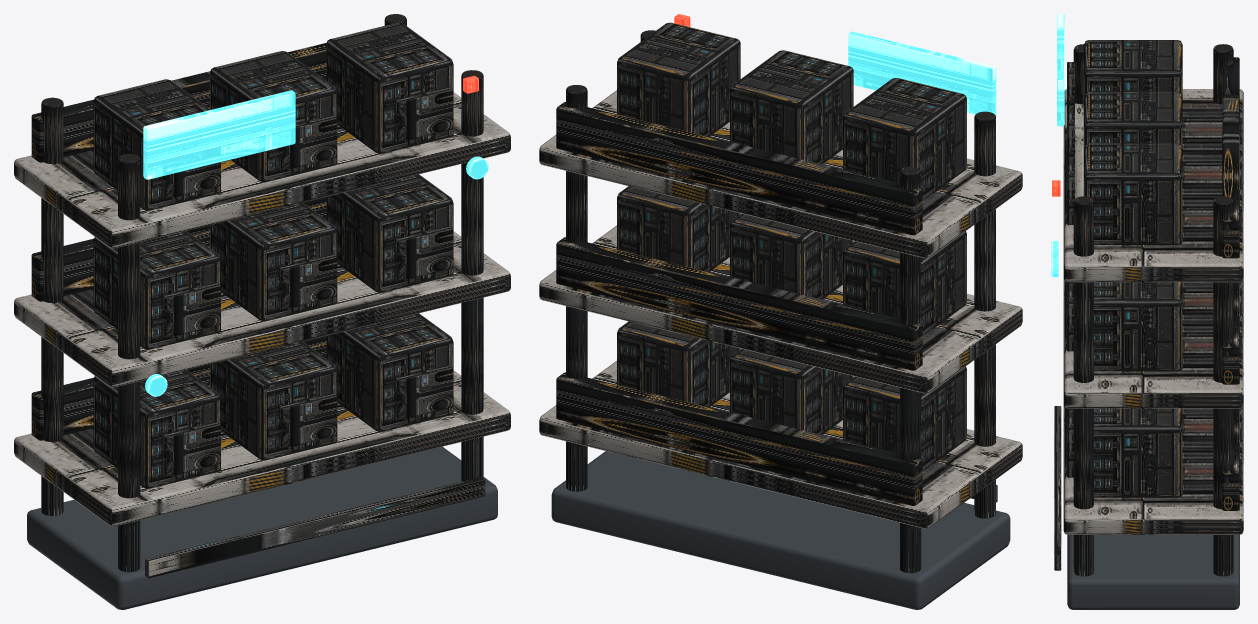
Rendered from room_l1_img2_battery_charging_rack.glb.
3 renders of one model, left to right at view 1: azimuth 30°, elevation 25°; view 2: azimuth 150°, elevation 25°; view 3: azimuth 270°, elevation 25°, orthographic. The views are drawn at different scales.
Parts seen in each view (by area): view 1: grounded_shadow_base, shelf_white_power_bus_0.3, shelf_white_power_bus_0.8, shelf_white_power_bus_1.3, battery_pack_1.3_0.4, battery_pack_0.3_0.4, battery_pack_0.8_0.4, battery_pack_0.3_0.0, battery_pack_0.8_0.0, top_charger_header_screen, upright_dark_steel_post, battery_pack_0.8_-0.4 (+18 smaller); view 2: grounded_shadow_base, rear_cable_tray_0.8, rear_cable_tray_0.3, rear_cable_tray_1.3, shelf_white_power_bus_1.3, shelf_white_power_bus_0.8, shelf_white_power_bus_0.3, battery_pack_1.3_-0.4, battery_pack_1.3_0.4, battery_pack_1.3_0.0, battery_pack_0.8_0.0, battery_pack_0.3_0.0 (+8 smaller); view 3: shelf_white_power_bus_1.3, grounded_shadow_base, shelf_white_power_bus_0.8, shelf_white_power_bus_0.3, battery_pack_1.3_0.4, battery_pack_0.3_0.4, battery_pack_0.8_0.4, upright_dark_steel_post.002, battery_pack_1.3_-0.4, battery_pack_1.3_0.0, upright_dark_steel_post.003, rear_cable_tray_1.3 (+11 smaller).
Part boxes in pixels (left/top/right/bottom): grounded_shadow_base: left=27, top=446, right=497, bottom=609; shelf_white_power_bus_0.3: left=14, top=370, right=510, bottom=526; shelf_white_power_bus_0.8: left=14, top=231, right=510, bottom=387; shelf_white_power_bus_1.3: left=14, top=92, right=510, bottom=248; battery_pack_1.3_0.4: left=326, top=22, right=453, bottom=153; battery_pack_0.3_0.4: left=326, top=313, right=453, bottom=431; battery_pack_0.8_0.4: left=326, top=174, right=453, bottom=292; battery_pack_0.3_0.0: left=210, top=341, right=337, bottom=459; battery_pack_0.8_0.0: left=210, top=202, right=337, bottom=320; top_charger_header_screen: left=143, top=90, right=295, bottom=179; upright_dark_steel_post: left=118, top=154, right=140, bottom=572; battery_pack_0.8_-0.4: left=93, top=231, right=220, bottom=349; grounded_shadow_base: left=551, top=451, right=1010, bottom=609; rear_cable_tray_0.8: left=556, top=237, right=922, bottom=370; rear_cable_tray_0.3: left=556, top=372, right=922, bottom=505; rear_cable_tray_1.3: left=556, top=102, right=922, bottom=235; shelf_white_power_bus_1.3: left=539, top=90, right=1022, bottom=258; shelf_white_power_bus_0.8: left=539, top=225, right=1022, bottom=393; shelf_white_power_bus_0.3: left=539, top=361, right=1022, bottom=528; battery_pack_1.3_-0.4: left=843, top=78, right=966, bottom=200; battery_pack_1.3_0.4: left=617, top=22, right=740, bottom=136; battery_pack_1.3_0.0: left=730, top=50, right=853, bottom=164; battery_pack_0.8_0.0: left=730, top=214, right=853, bottom=299; battery_pack_0.3_0.0: left=730, top=349, right=853, bottom=434; shelf_white_power_bus_1.3: left=1063, top=89, right=1243, bottom=282; grounded_shadow_base: left=1067, top=535, right=1239, bottom=609; shelf_white_power_bus_0.8: left=1063, top=279, right=1243, bottom=408; shelf_white_power_bus_0.3: left=1063, top=405, right=1243, bottom=534; battery_pack_1.3_0.4: left=1084, top=143, right=1182, bottom=244; battery_pack_0.3_0.4: left=1094, top=408, right=1182, bottom=497; battery_pack_0.8_0.4: left=1094, top=282, right=1182, bottom=371; upright_dark_steel_post.002: left=1073, top=196, right=1093, bottom=576; battery_pack_1.3_-0.4: left=1084, top=40, right=1182, bottom=95; battery_pack_1.3_0.0: left=1084, top=91, right=1182, bottom=147; upright_dark_steel_post.003: left=1213, top=196, right=1233, bottom=576; rear_cable_tray_1.3: left=1222, top=57, right=1239, bottom=258.
Bounding box in the file's own units: 1.45 × 1.67 × 0.6625.
9 materials, 8 textured.
